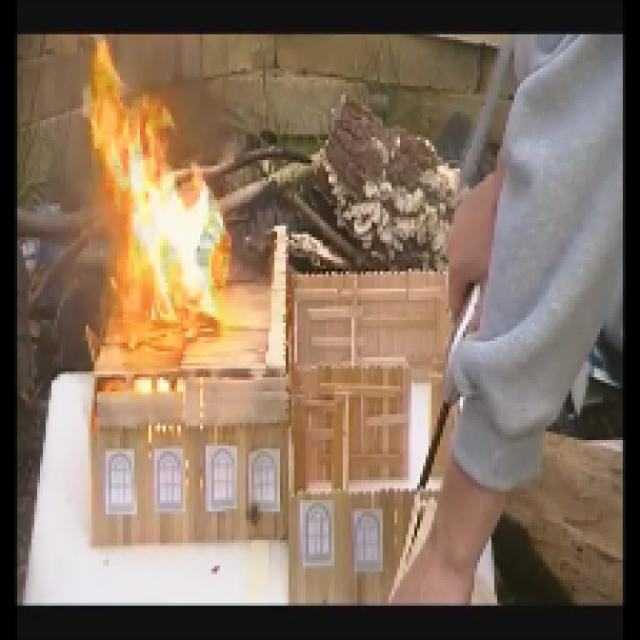fire: (86, 51, 220, 357)
